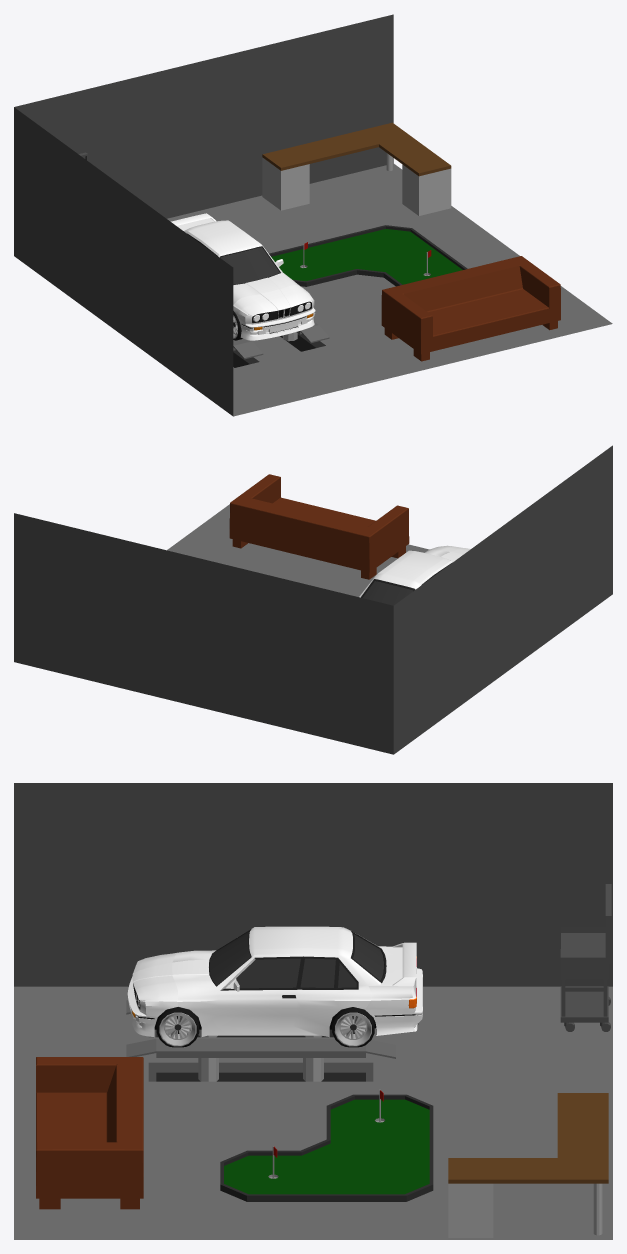
The model's file is websiteScene.glb.
The picture shows the model from 3 angles, top to bottom: view 1: azimuth 30°, elevation 25°; view 2: azimuth 150°, elevation 25°; view 3: azimuth 270°, elevation 25°; orthographic projection. The views are drawn at different scales.
Parts seen in each view (by area): view 1: walls, floor, couch, putting green, Body, desk top, desk, putting green rails, windows, lift ramps; view 2: walls, couch, floor, Body, windows; view 3: walls, floor, Body, couch, putting green, desk top, tool cart, windows, lift ramps, putting green rails, desk, base (+4 smaller).
Boxes of the visible parts, x1,y1,x2,y2 form: walls: [14, 14, 393, 416]; floor: [167, 163, 612, 416]; couch: [381, 256, 560, 361]; putting green: [271, 229, 462, 284]; Body: [171, 213, 315, 340]; desk top: [262, 122, 451, 176]; desk: [262, 153, 451, 215]; putting green rails: [269, 225, 467, 286]; windows: [220, 247, 279, 284]; lift ramps: [233, 322, 329, 359]; walls: [14, 445, 612, 754]; couch: [229, 474, 409, 579]; floor: [167, 504, 429, 596]; Body: [359, 545, 470, 597]; windows: [362, 581, 413, 605]; walls: [14, 783, 612, 986]; floor: [14, 986, 612, 1239]; Body: [127, 926, 422, 1037]; couch: [36, 1057, 143, 1209]; putting green: [224, 1099, 429, 1194]; desk top: [448, 1093, 608, 1183]; tool cart: [560, 884, 611, 1031]; windows: [210, 931, 383, 988]; lift ramps: [126, 1000, 395, 1058]; putting green rails: [220, 1094, 433, 1201]; desk: [448, 1183, 602, 1237]; base: [156, 1029, 365, 1081].
Bounding box in the file's own units: 40 × 17 × 40.
